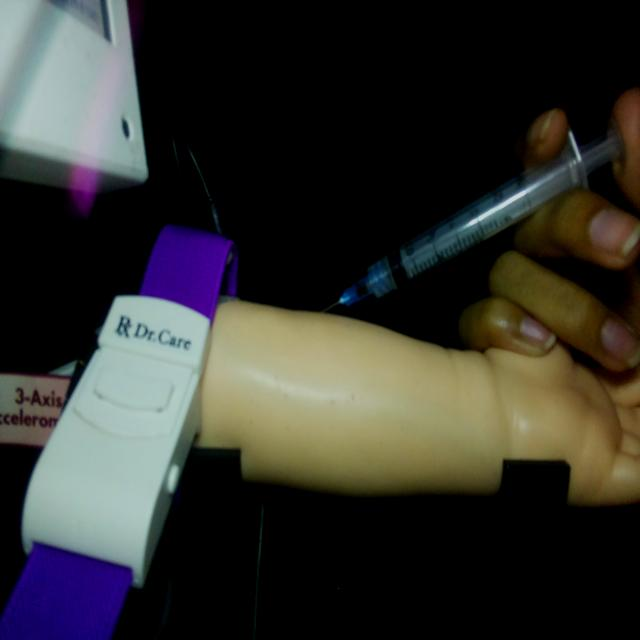24 degrees: (319, 118, 624, 315)
